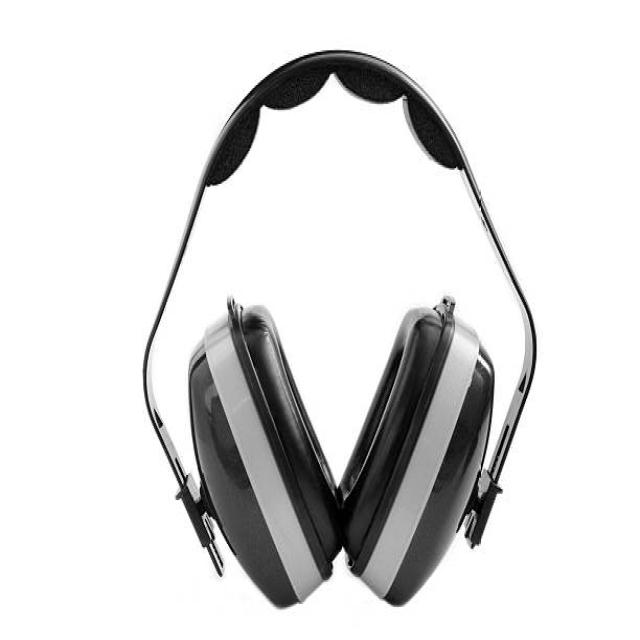Ear-protection: (124, 34, 586, 613)
